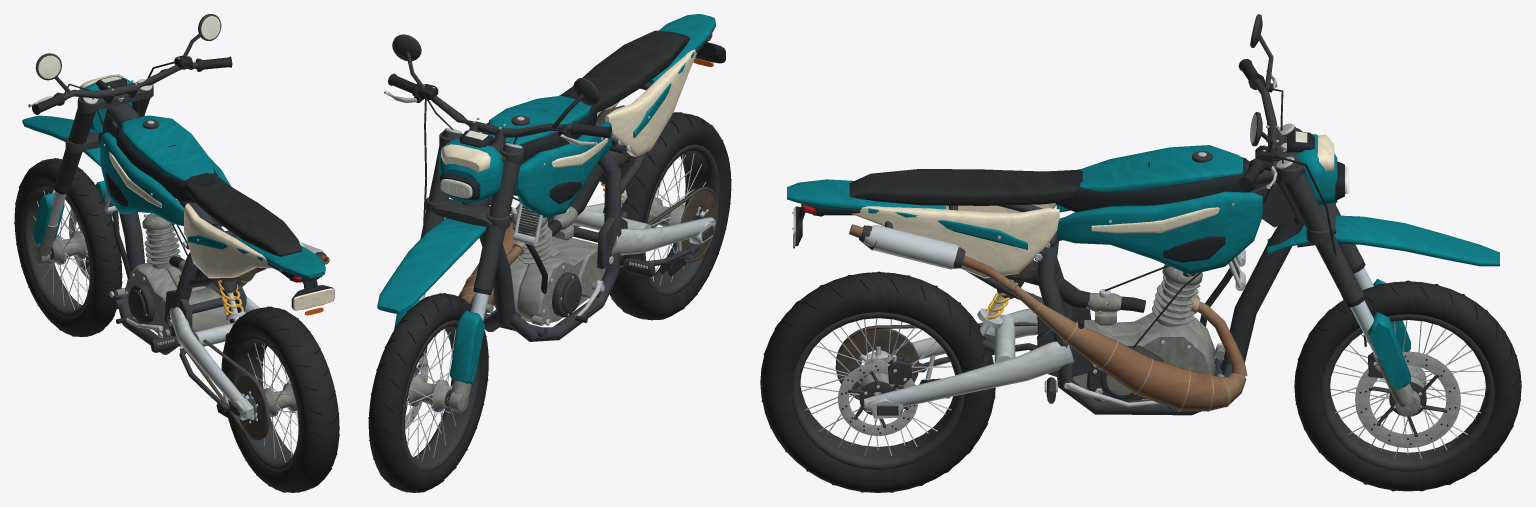
The model's file is SB50-StudioImport.glb.
The picture shows the model from 3 angles, left to right: view 1: azimuth 30°, elevation 25°; view 2: azimuth 150°, elevation 25°; view 3: azimuth 270°, elevation 25°; orthographic projection. The views are drawn at different scales.
Parts seen in each view (by area): view 1: SB50_RearTire_rubber, SB50_FrontTire_rubber, SB50_MainFrame_frame, SB50_Seat_seat, SB50_FuelTank_body, SB50_FrontRim_anodized, SB50_RadiatorShroud_L_body, SB50_SidePanel_L_trim, SB50_RearRim_anodized, SB50_Swingarm_alloy, SB50_FuelTank_black, SB50_Crankcase_L_cast (+31 smaller); view 2: SB50_FrontTire_rubber, SB50_RearTire_rubber, SB50_MainFrame_frame, SB50_FrontFender_body, SB50_Seat_seat, SB50_RadiatorShroud_L_body, SB50_SidePanel_L_trim, SB50_RearRim_anodized, SB50_FrontRim_anodized, SB50_Swingarm_alloy, SB50_Crankcase_L_cast, SB50_ForkUpper_L_anodized (+39 smaller); view 3: SB50_RearTire_rubber, SB50_FrontTire_rubber, SB50_MainFrame_frame, SB50_RadiatorShroud_R_body, SB50_ExpansionChamber_pipe, SB50_Seat_seat, SB50_Swingarm_alloy, SB50_SidePanel_R_trim, SB50_RearRim_anodized, SB50_FrontRim_anodized, SB50_FuelTank_body, SB50_FrontFender_body (+24 smaller).
Boxes of the visible parts, x1=… form: SB50_RearTire_rubber: x1=221, y1=307, x2=339, y2=492; SB50_FrontTire_rubber: x1=14, y1=158, x2=122, y2=336; SB50_MainFrame_frame: x1=98, y1=103, x2=246, y2=354; SB50_Seat_seat: x1=167, y1=144, x2=302, y2=256; SB50_FuelTank_body: x1=121, y1=115, x2=214, y2=180; SB50_FrontRim_anodized: x1=22, y1=182, x2=92, y2=318; SB50_RadiatorShroud_L_body: x1=100, y1=132, x2=184, y2=226; SB50_SidePanel_L_trim: x1=184, y1=203, x2=273, y2=278; SB50_RearRim_anodized: x1=231, y1=335, x2=300, y2=471; SB50_Swingarm_alloy: x1=169, y1=296, x2=259, y2=420; SB50_FuelTank_black: x1=116, y1=115, x2=217, y2=202; SB50_Crankcase_L_cast: x1=114, y1=263, x2=176, y2=337; SB50_FrontTire_rubber: x1=368, y1=293, x2=488, y2=492; SB50_RearTire_rubber: x1=603, y1=112, x2=731, y2=320; SB50_MainFrame_frame: x1=462, y1=143, x2=627, y2=341; SB50_FrontFender_body: x1=377, y1=218, x2=486, y2=313; SB50_Seat_seat: x1=540, y1=30, x2=689, y2=111; SB50_RadiatorShroud_L_body: x1=515, y1=121, x2=612, y2=217; SB50_SidePanel_L_trim: x1=605, y1=49, x2=697, y2=156; SB50_RearRim_anodized: x1=643, y1=144, x2=720, y2=296; SB50_FrontRim_anodized: x1=402, y1=320, x2=479, y2=471; SB50_Swingarm_alloy: x1=571, y1=202, x2=715, y2=255; SB50_Crankcase_L_cast: x1=517, y1=250, x2=595, y2=325; SB50_ForkUpper_L_anodized: x1=474, y1=145, x2=522, y2=290; SB50_RearTire_rubber: x1=760, y1=272, x2=995, y2=492; SB50_FrontTire_rubber: x1=1294, y1=281, x2=1521, y2=491; SB50_MainFrame_frame: x1=1034, y1=158, x2=1303, y2=415; SB50_RadiatorShroud_R_body: x1=1056, y1=191, x2=1262, y2=274; SB50_ExpansionChamber_pipe: x1=1011, y1=285, x2=1246, y2=411; SB50_Seat_seat: x1=849, y1=162, x2=1149, y2=205; SB50_Swingarm_alloy: x1=864, y1=308, x2=1074, y2=418; SB50_SidePanel_R_trim: x1=851, y1=206, x2=1059, y2=278; SB50_RearRim_anodized: x1=791, y1=312, x2=964, y2=469; SB50_FrontRim_anodized: x1=1321, y1=314, x2=1494, y2=471; SB50_FuelTank_body: x1=1079, y1=145, x2=1243, y2=192; SB50_FrontFender_body: x1=1267, y1=215, x2=1499, y2=266.
Bounding box in the file's own units: 0.7422 × 1.22 × 1.98.
Materials: 21 (21 with a texture image).
